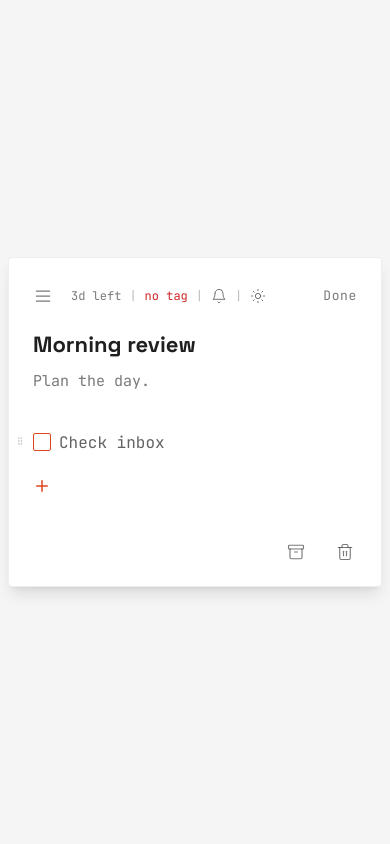
it: dismisses title suggestions with Escape without saving or closing the editor
Replace the text in the field named "Task name" with "Draft #" at [195, 344], box [33,330,357,359]
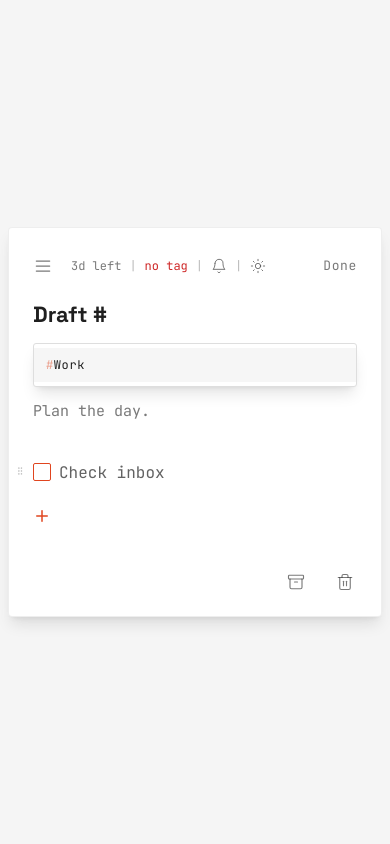
Expected: the button "#Work" is shown, [34,348,356,382]
Press Escape in the field named "Task name", box [33,300,357,329]
Wait 500 ms
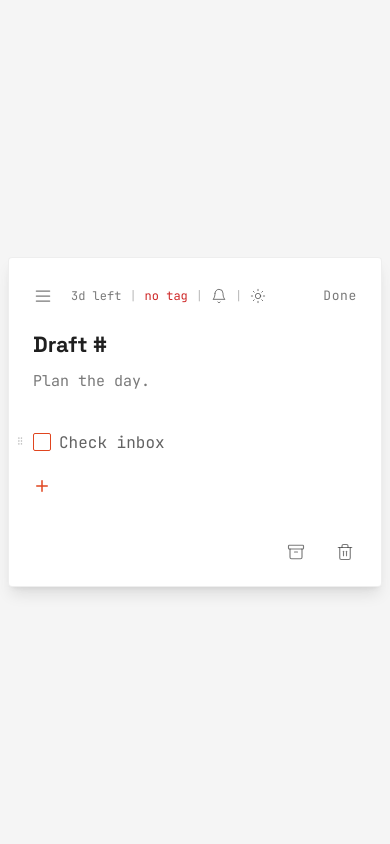
Expected: the dialog named "Edit task" is shown, [8,257,382,587]
Expected: the button "#Work" is gone
